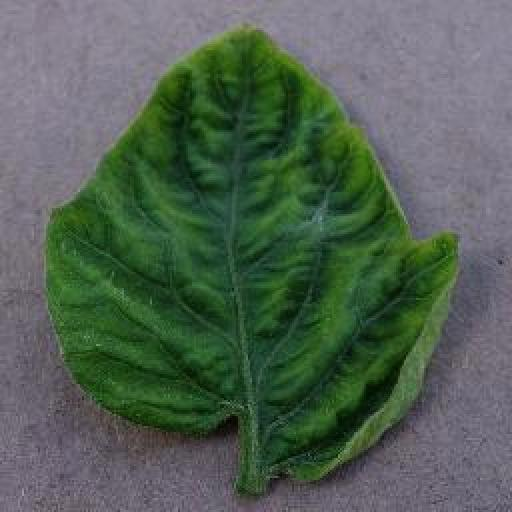disease_tomato: (44, 26, 464, 488)
